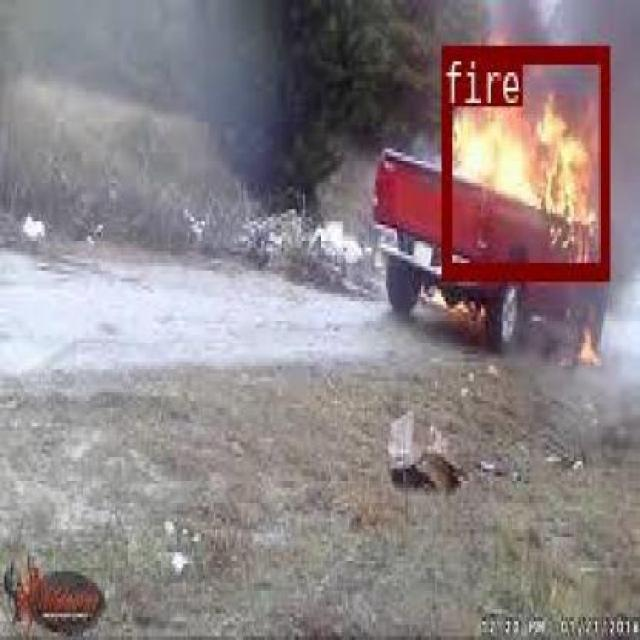Fire: (441, 45, 607, 278)
